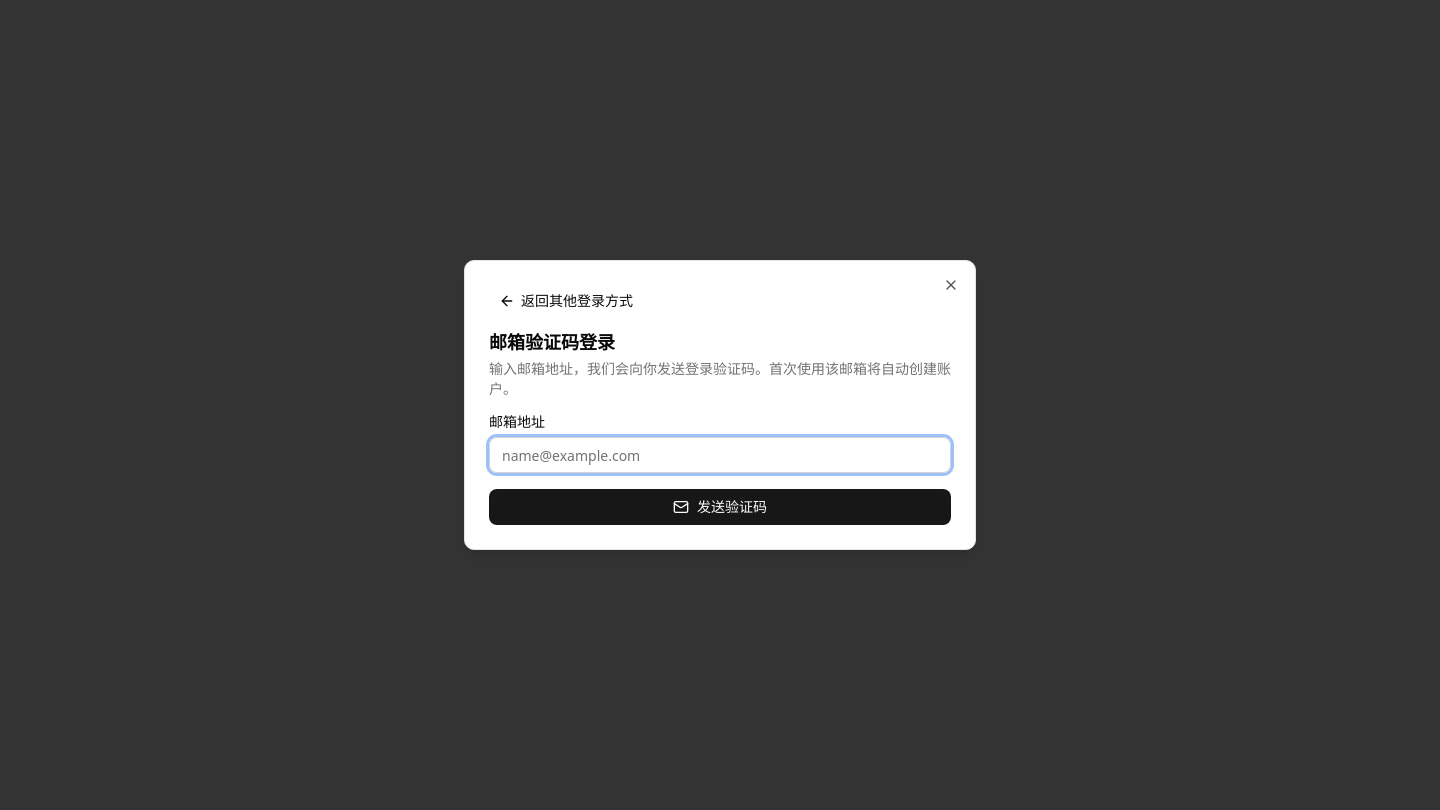
Test: EmailCodeLoginPanel › 发送时传递 trim 后邮箱与 AbortSignal，成功后只展示服务端脱敏邮箱
Type " user@example.com " into the field labelled "邮箱地址". click: (720, 455)
box: [489, 437, 951, 473]
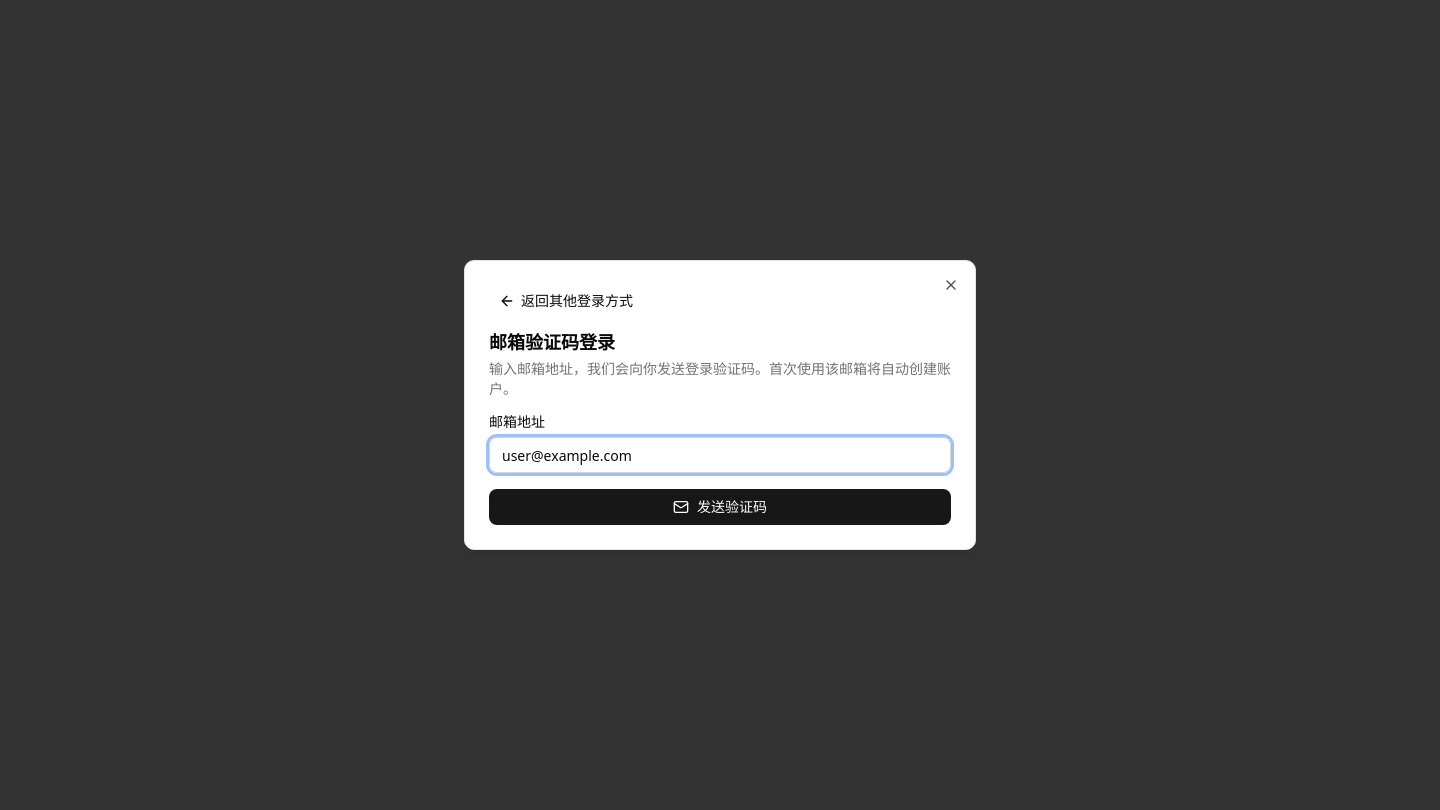
Click the button "发送验证码". click: (720, 507)
box: [489, 489, 951, 525]
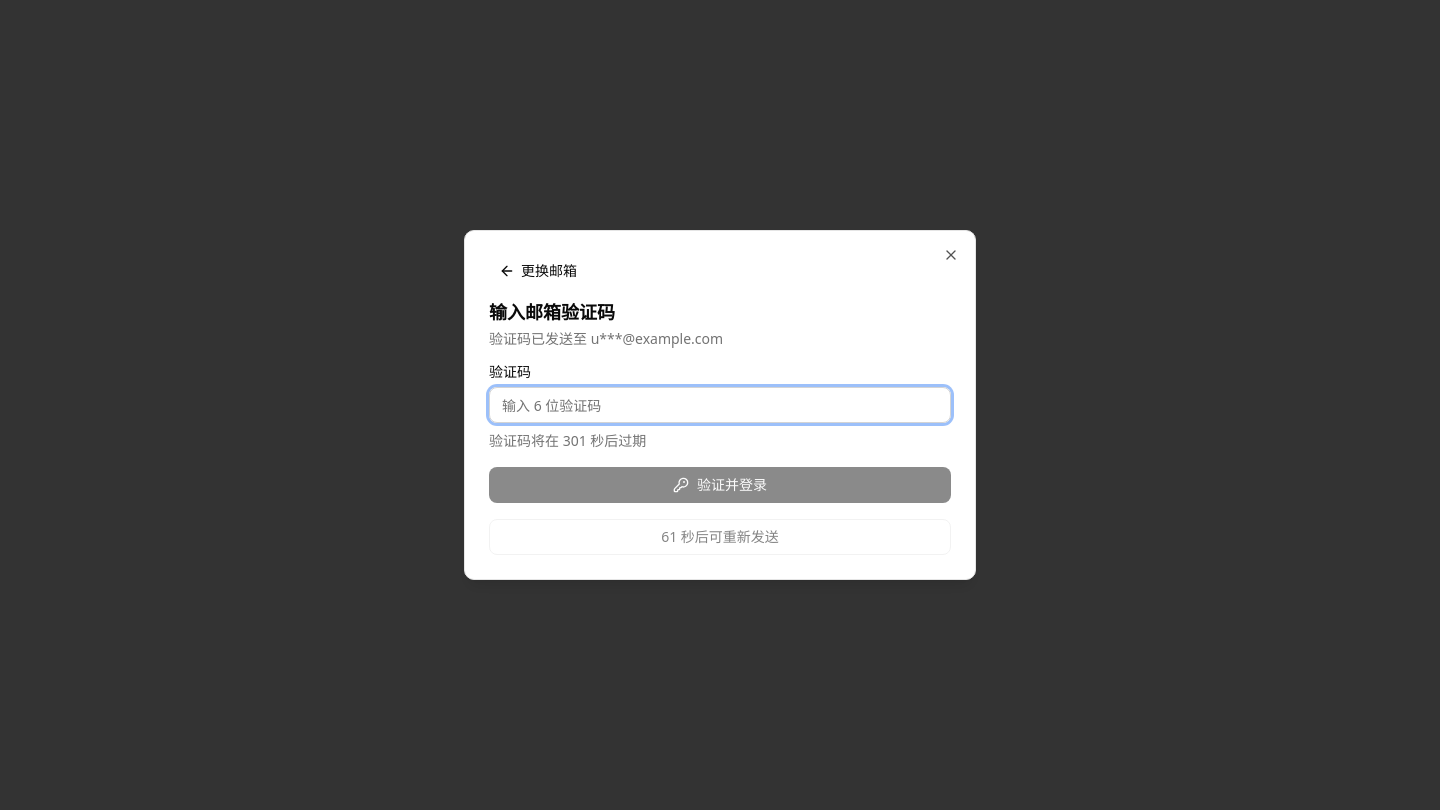
Expected: the text "user@example.com" is not shown
Expected: the text "验证码已发送至 u***@example.com" is shown, [489, 329, 723, 348]
